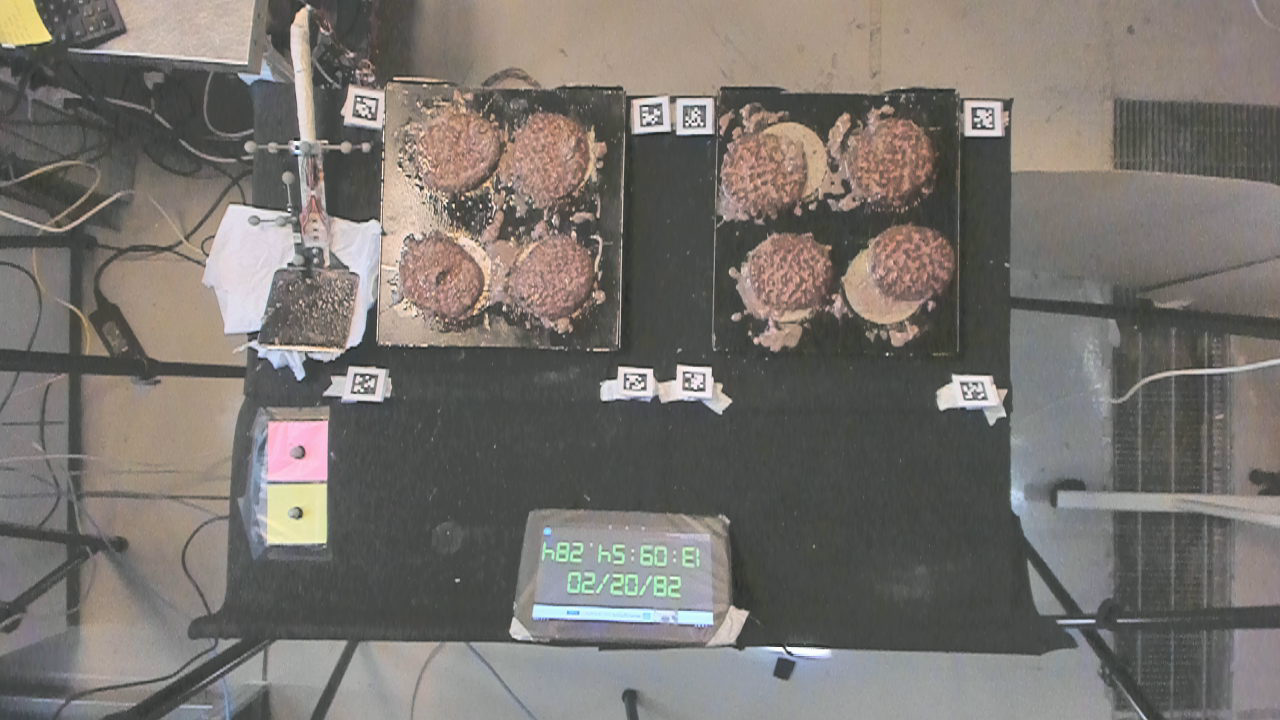hamburger: (841, 113, 935, 211), (409, 103, 502, 190), (864, 219, 957, 303), (396, 231, 484, 316), (513, 233, 591, 327), (718, 128, 803, 214), (504, 115, 589, 198), (746, 230, 831, 311)
marker: (267, 421, 327, 482)
